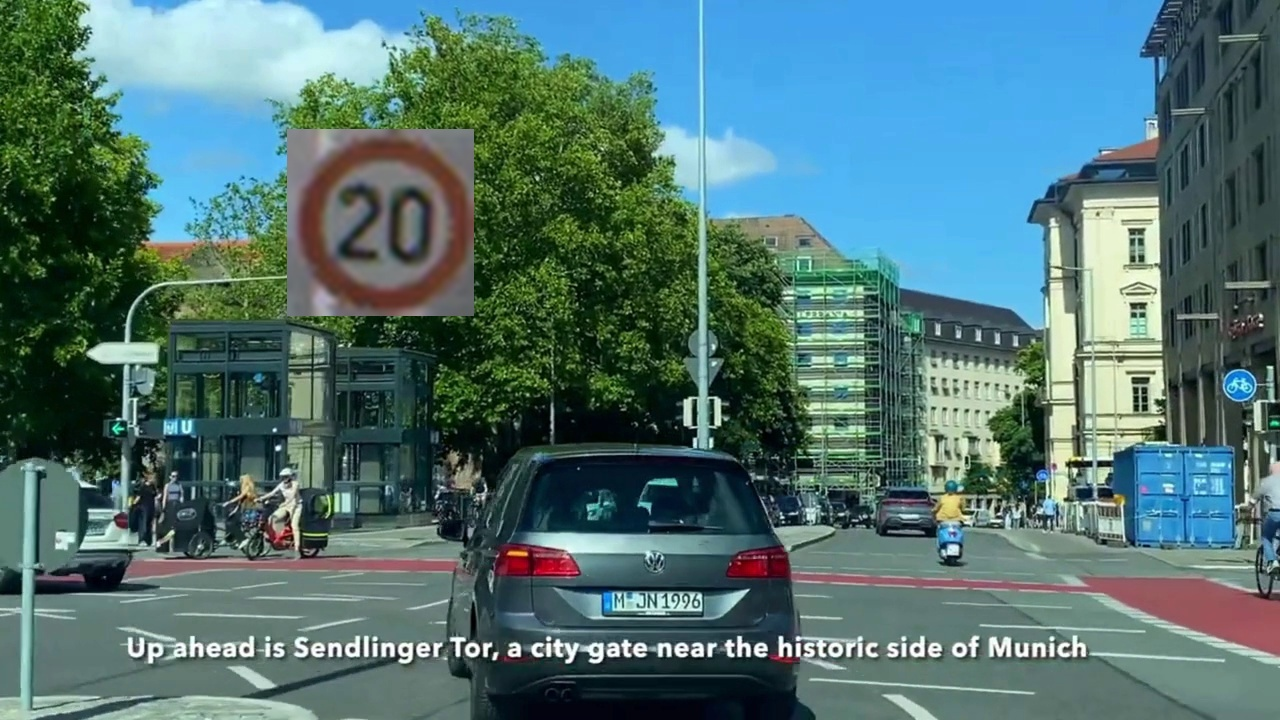Speed 20: (287, 129, 474, 316)
